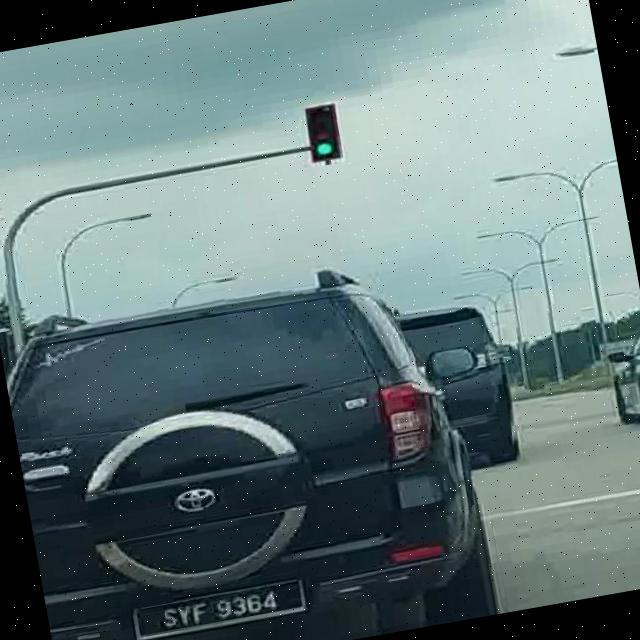green_light: (304, 104, 338, 160)
